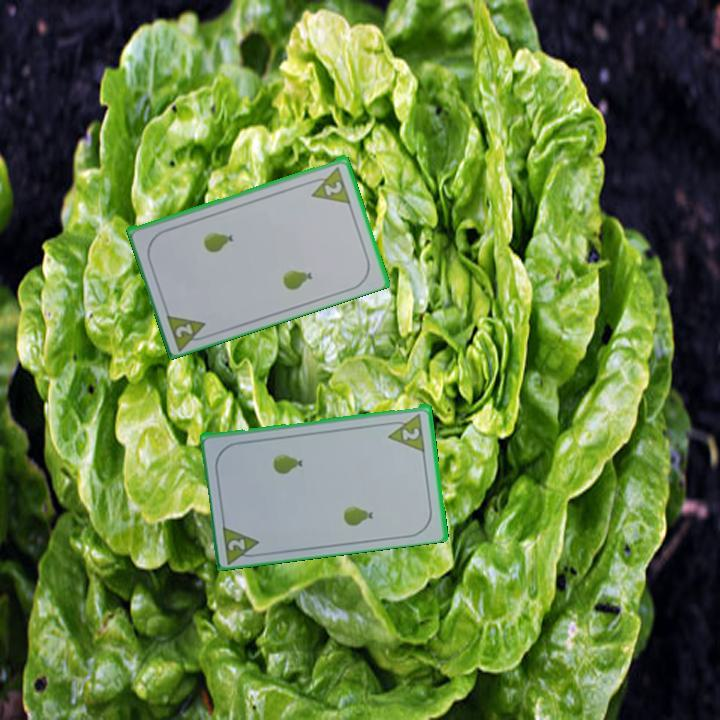2p: (163, 308, 213, 352), (219, 520, 265, 564), (321, 177, 345, 198), (399, 423, 423, 443)
